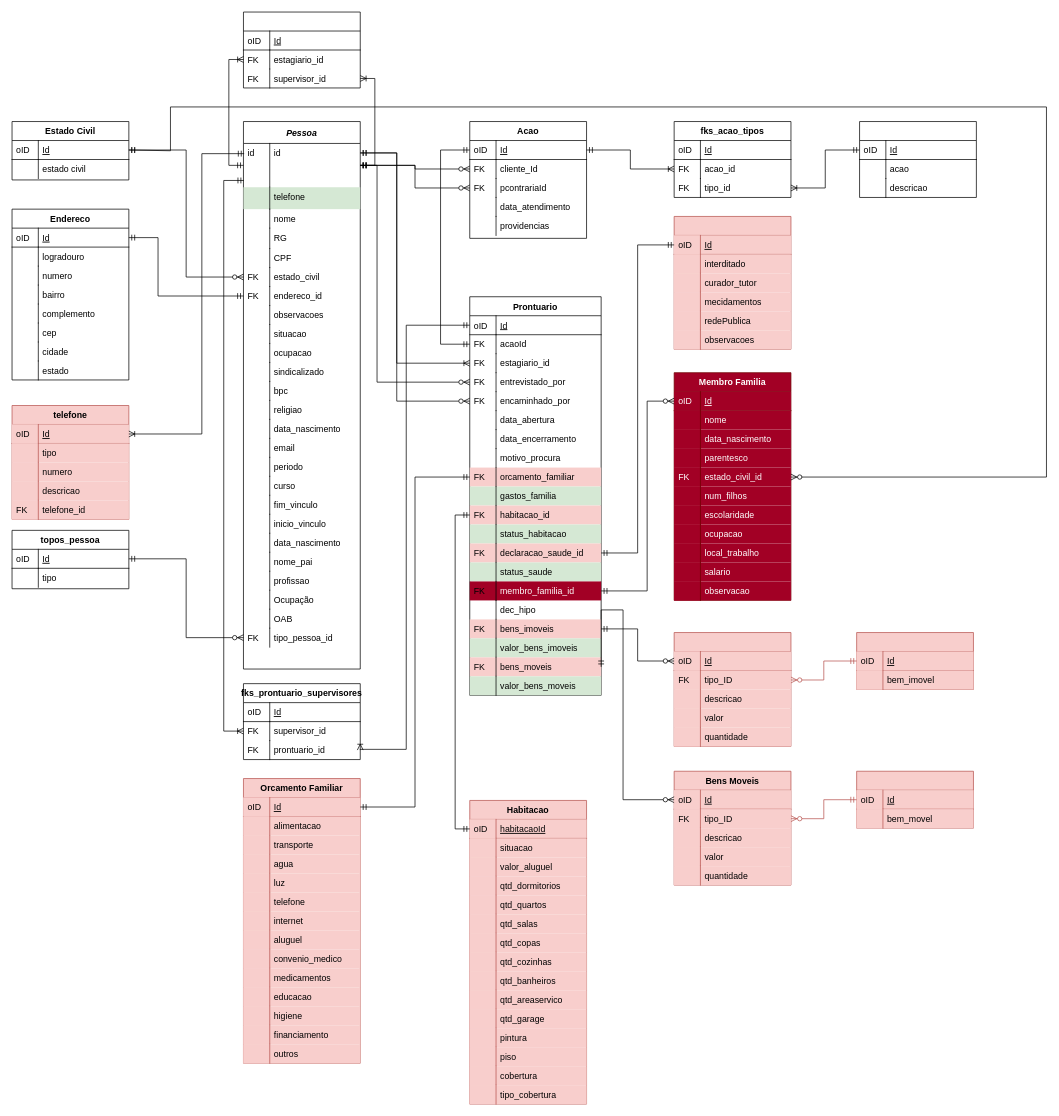
This 1059x1116 diagram has some shape labels left out. Here are the shapes that lost their labels. From the top down, the box of each, then its label:
(243, 11, 360, 88): Estagiario_supervisor
(859, 121, 976, 197): Tipo de Acoes
(673, 216, 791, 349): Saude
(856, 632, 973, 689): Tipo Bens Imoveis
(673, 632, 791, 746): Bens Imoveis
(856, 771, 973, 828): Tipo Bens Moveis
